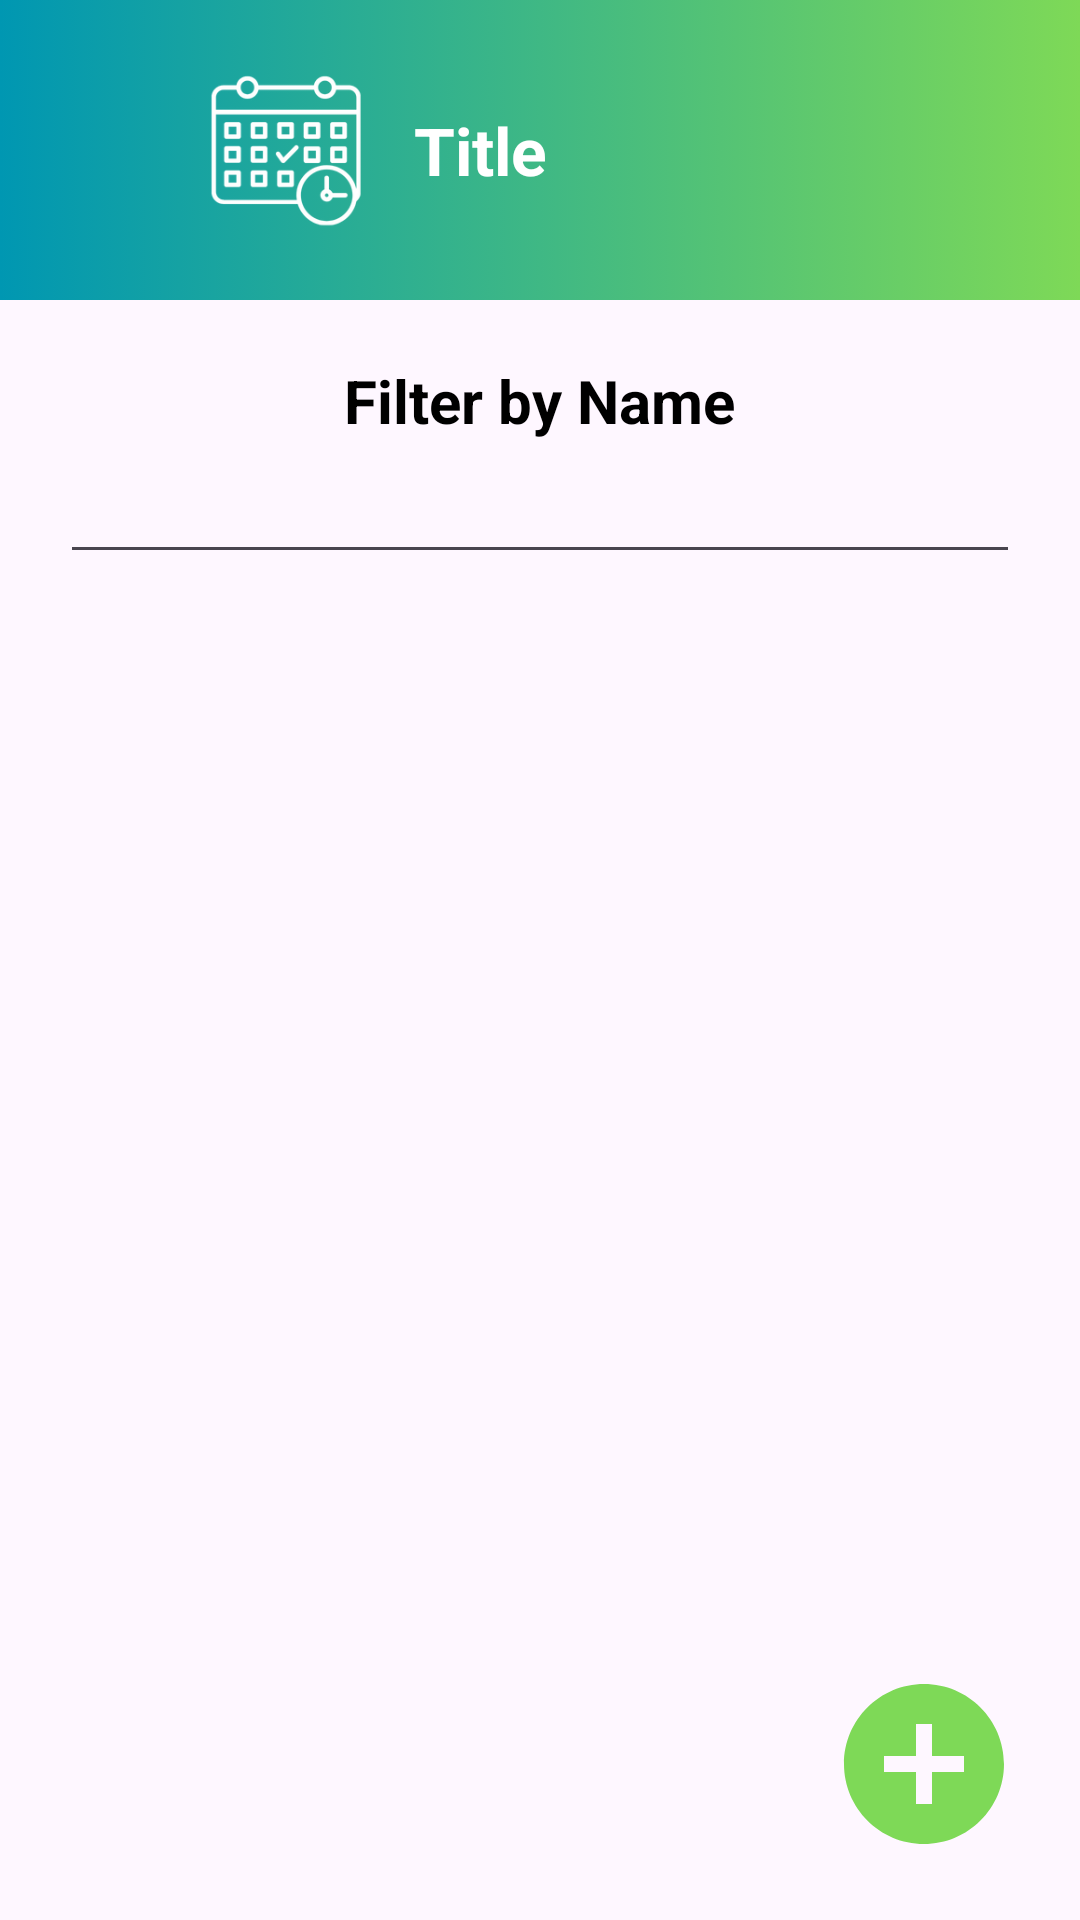

Icons on this 1080 × 1920 Android screen, each with its box as (x1=x1, y1=y1, x2=x2, y2=y2):
add: (x1=844, y1=1684, x2=1004, y2=1844)
